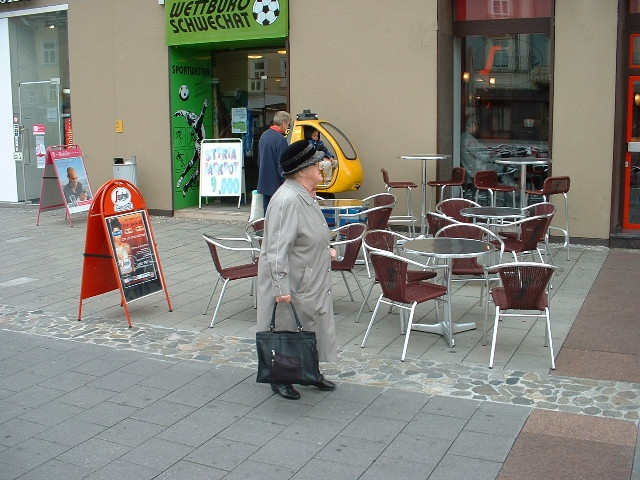person: (251, 139, 339, 398)
